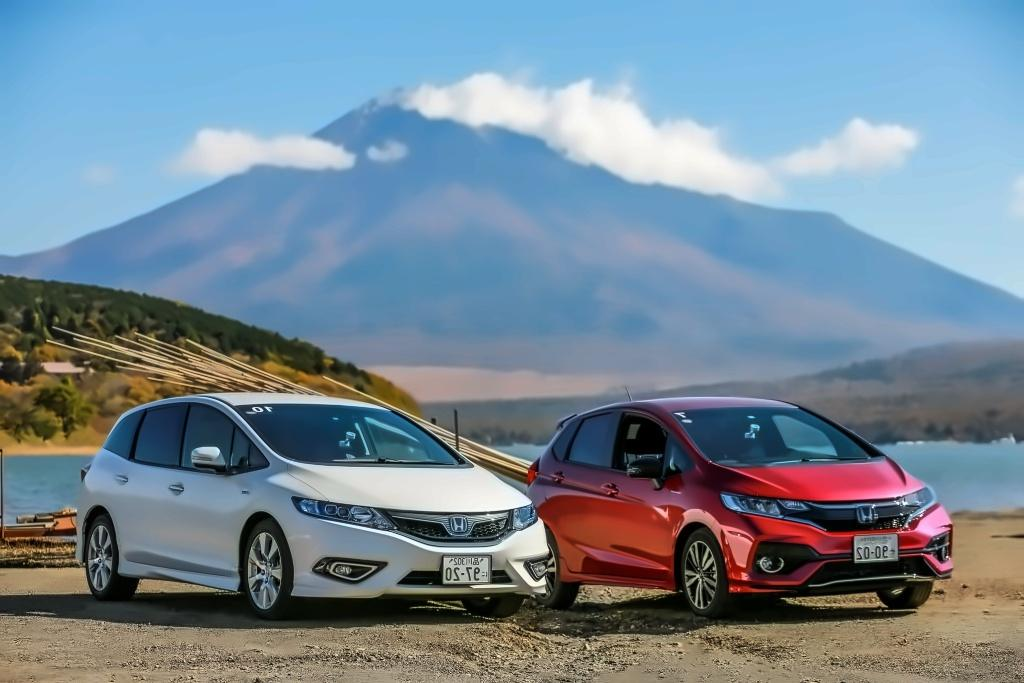Car hood: (287, 461, 540, 511), (709, 460, 931, 503)
Driver-s door - -F-R-: (607, 406, 683, 582), (171, 395, 235, 582)
Fender - -F-R-: (236, 449, 325, 593), (673, 450, 725, 590)
Fender - -R-R-: (80, 467, 117, 542)
Front bumper: (718, 515, 975, 599), (275, 525, 558, 600)
Headlight - -L-: (895, 478, 943, 527), (507, 496, 544, 534)
Headlight - -R-: (708, 487, 829, 529), (287, 491, 402, 534)
Passenger-s door - -R-R-: (110, 397, 173, 568), (549, 406, 606, 574)
Rear bumper: (70, 509, 89, 575)
Rear light - -R-: (517, 455, 544, 489), (75, 451, 99, 486)
Side bumper - -R-: (110, 555, 244, 600), (553, 557, 690, 594)
Side mirror - -R-: (185, 438, 236, 478), (622, 445, 671, 486)
